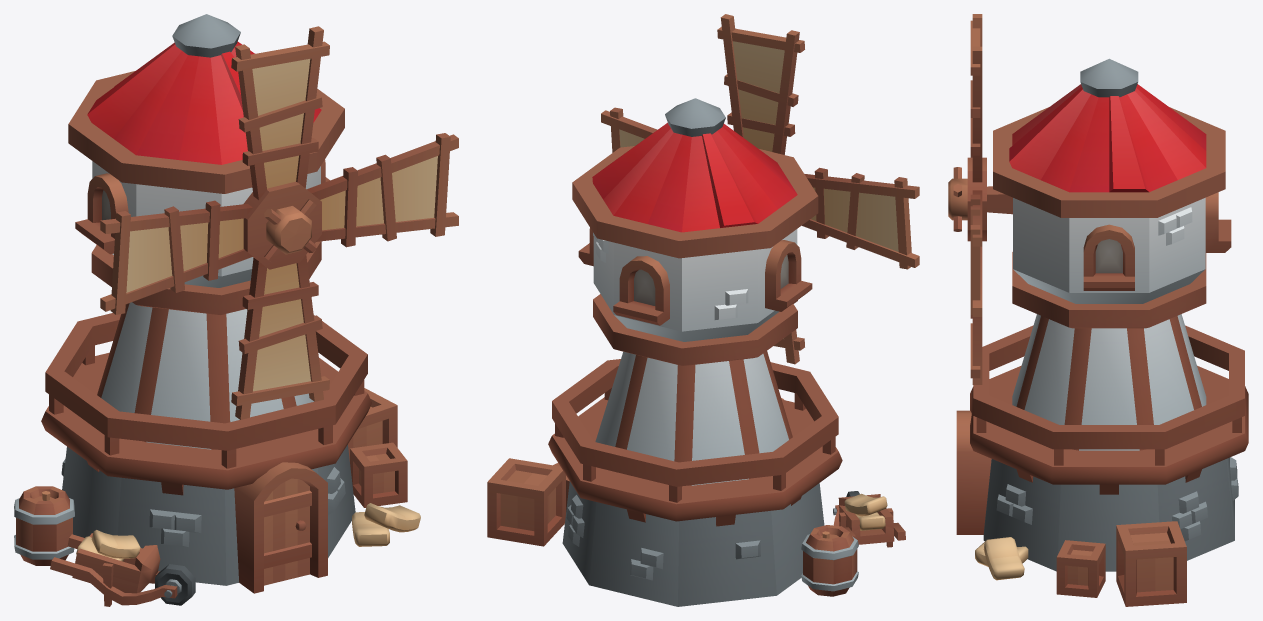
File: building_windmill_red.gltf
3 renders of one model, left to right at view 1: azimuth 30°, elevation 25°; view 2: azimuth 150°, elevation 25°; view 3: azimuth 270°, elevation 25°, orthographic. The views are drawn at different scales.
Parts seen in each view (by area): view 1: building_windmill_red, building_windmill_top_fan_red, building_windmill_top_red; view 2: building_windmill_red, building_windmill_top_red, building_windmill_top_fan_red; view 3: building_windmill_red, building_windmill_top_red, building_windmill_top_fan_red.
Boxes of the visible parts, x1,y1,x2,y2 form: building_windmill_red: (14,302,420,606); building_windmill_top_fan_red: (100,26,458,419); building_windmill_top_red: (68,14,344,314); building_windmill_red: (487,351,905,606); building_windmill_top_red: (572,98,818,365); building_windmill_top_fan_red: (601,14,919,364); building_windmill_red: (956,314,1248,606); building_windmill_top_red: (987,58,1231,328); building_windmill_top_fan_red: (948,14,986,384).
Bounding box in the file's own units: 1.13 × 1.46 × 0.8165.
1 material, 1 textured.
